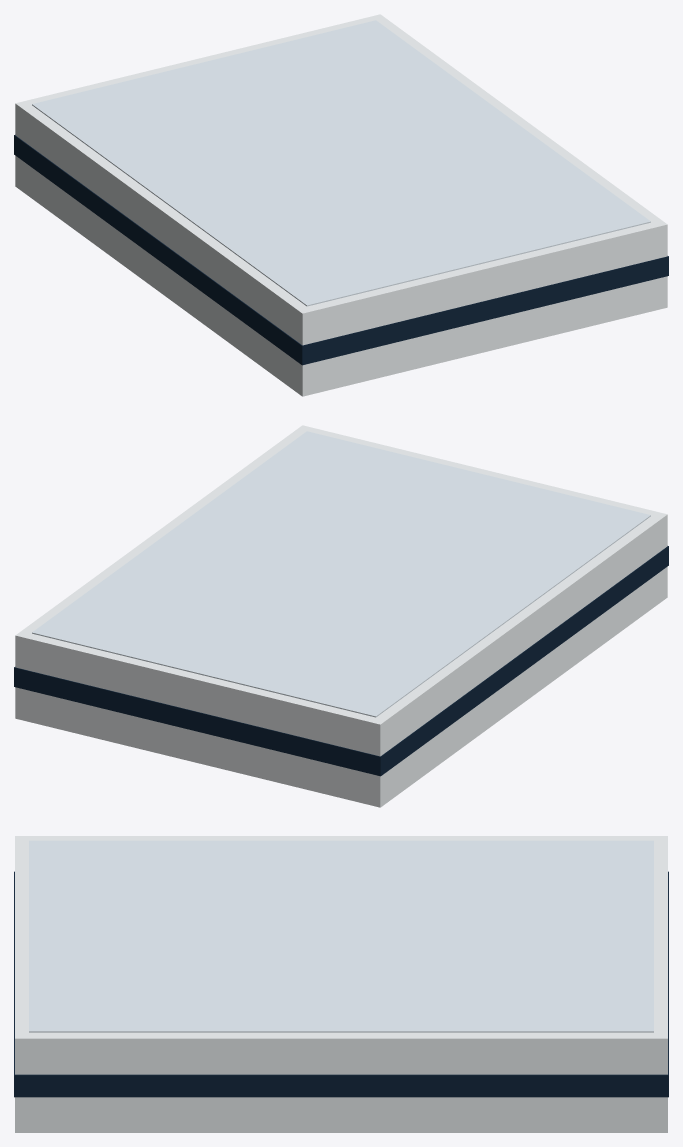
The model's file is sereno-hibrido.glb.
3 renders of one model, top to bottom at view 1: azimuth 30°, elevation 25°; view 2: azimuth 150°, elevation 25°; view 3: azimuth 270°, elevation 25°, orthographic. The views are drawn at different scales.
Visible parts, largest first — view 1: Tampo acolchoado, Corpo, Faixa lateral; view 2: Tampo acolchoado, Corpo, Faixa lateral; view 3: Tampo acolchoado, Corpo, Faixa lateral.
Part boxes in pixels (x1,y1,x2,y2): Tampo acolchoado: [32, 20, 650, 306]; Corpo: [15, 14, 667, 396]; Faixa lateral: [14, 135, 668, 365]; Tampo acolchoado: [32, 431, 650, 717]; Corpo: [15, 425, 667, 807]; Faixa lateral: [14, 546, 668, 776]; Tampo acolchoado: [29, 840, 653, 1032]; Corpo: [15, 836, 667, 1132]; Faixa lateral: [14, 871, 668, 1097].
Bounding box in the file's own units: 1.39 × 0.304 × 1.89.
